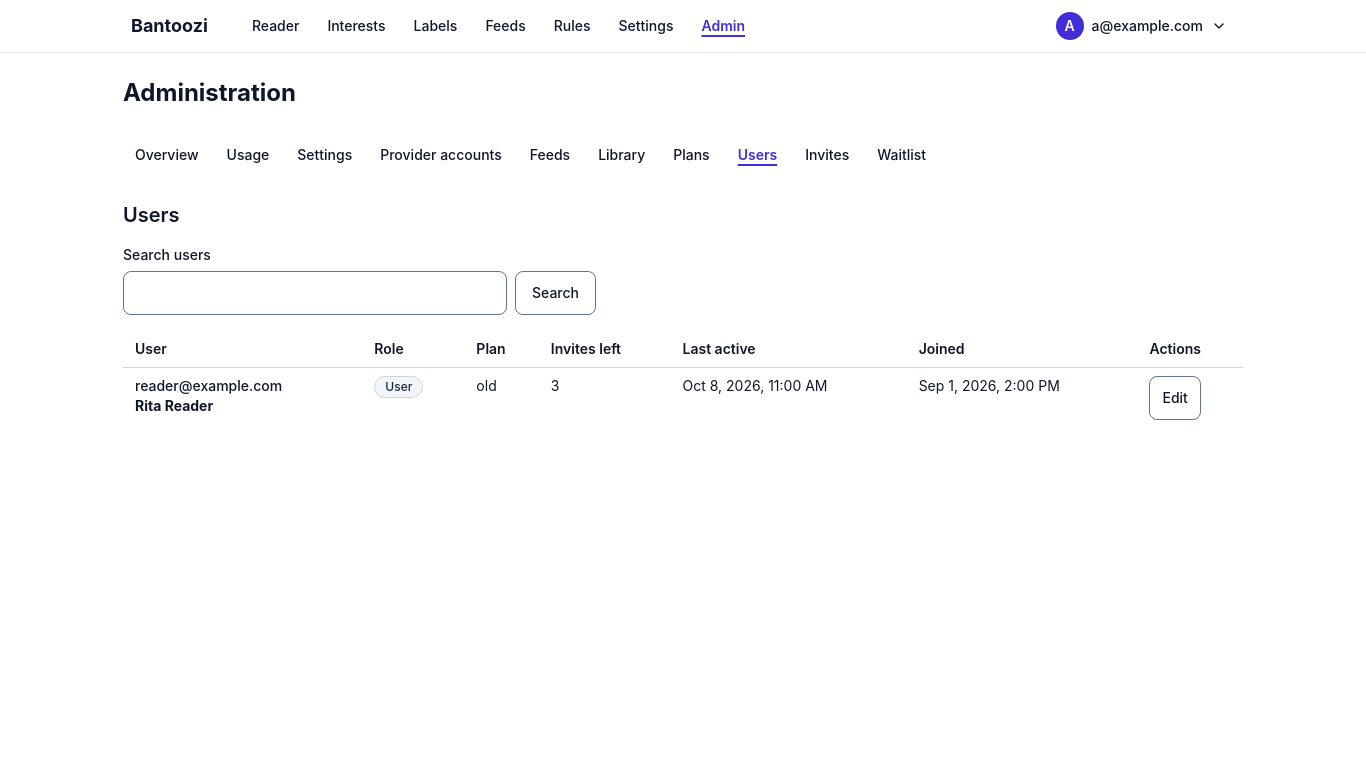
it: Admin → Users plan select › keeps the retired current plan of the user selectable
Expected: the table named "Users" is shown, [123,331,1243,428]
Click the button with aria-label "Edit reader@example.com" at (1175, 398), box [1149,376,1201,420]
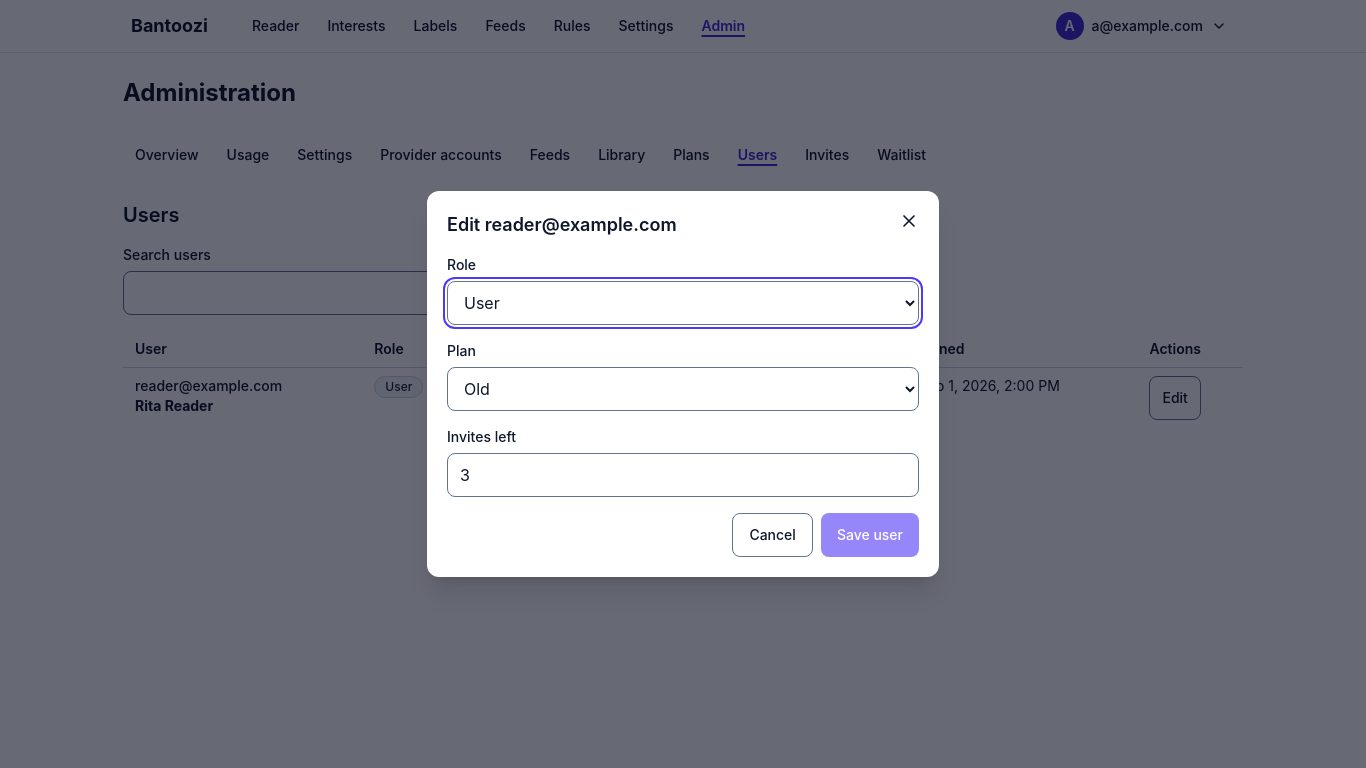
Result: the dropdown labelled "Plan" shows "Old" at [447,367,919,411]
